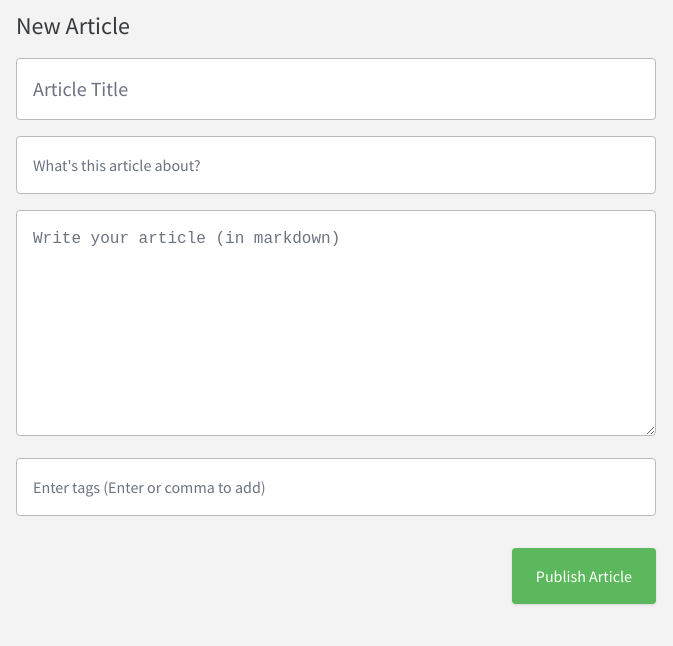
Test: Editor page › adds tags via Enter key and removes via × button
Step 1. Type "AI" into the field with placeholder "Enter tags (Enter or comma to add)" → (336,487), box 16,458 -> 656,516
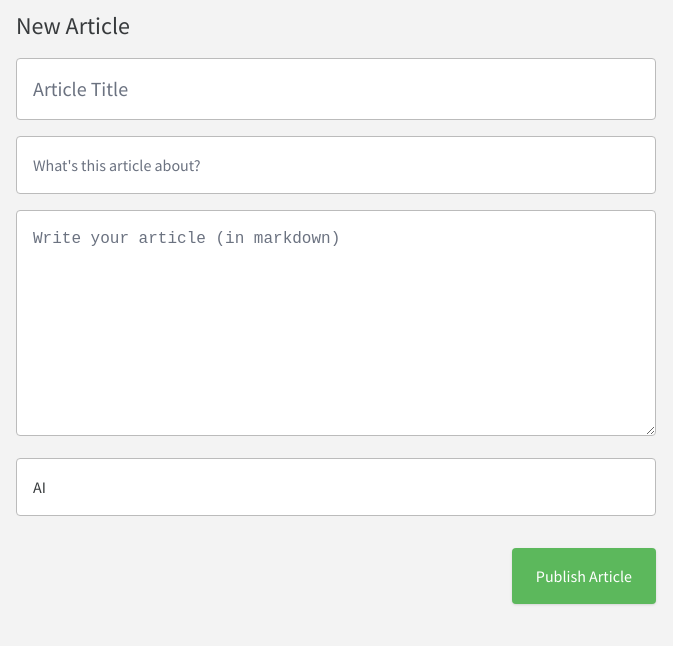
Step 2. Press Enter in the field with placeholder "Enter tags (Enter or comma to add)", box 16,458 -> 656,516
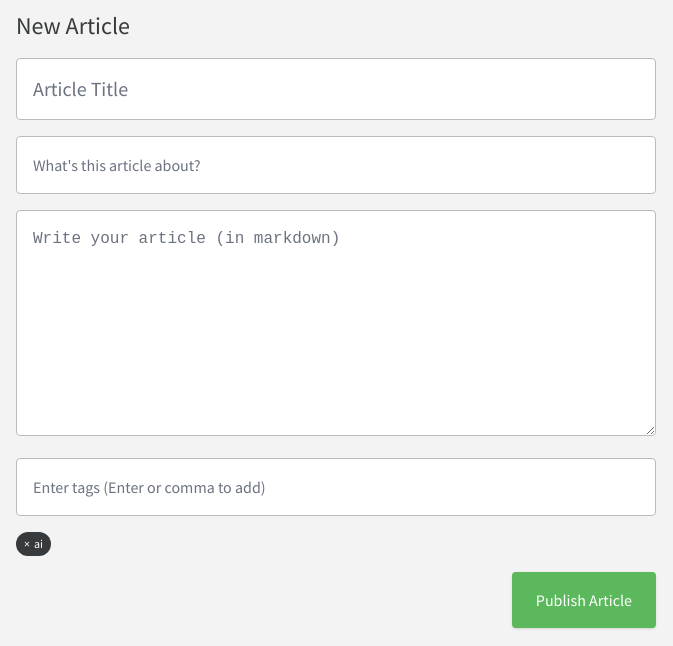
Check: the text "ai" is shown, box 34,536 -> 43,551
Step 3. Click the button named "remove ai" → (27,544), box 24,536 -> 30,552
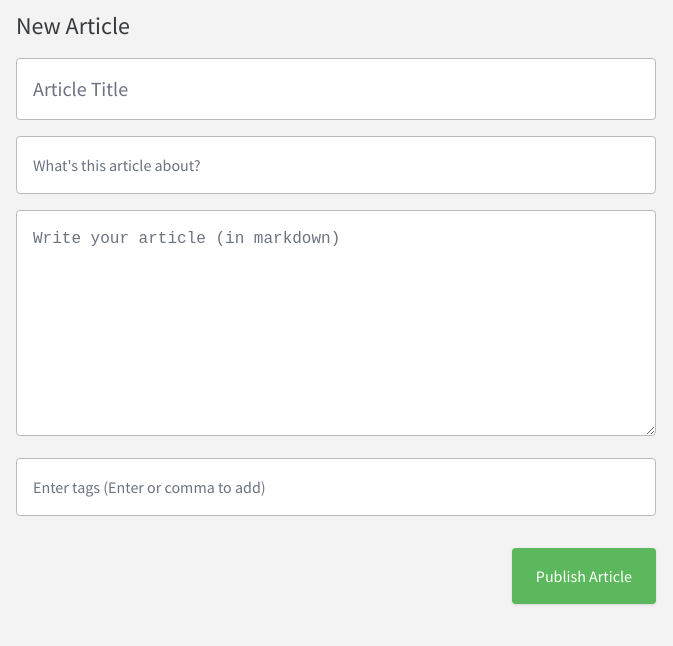
Check: the text "ai" is gone
